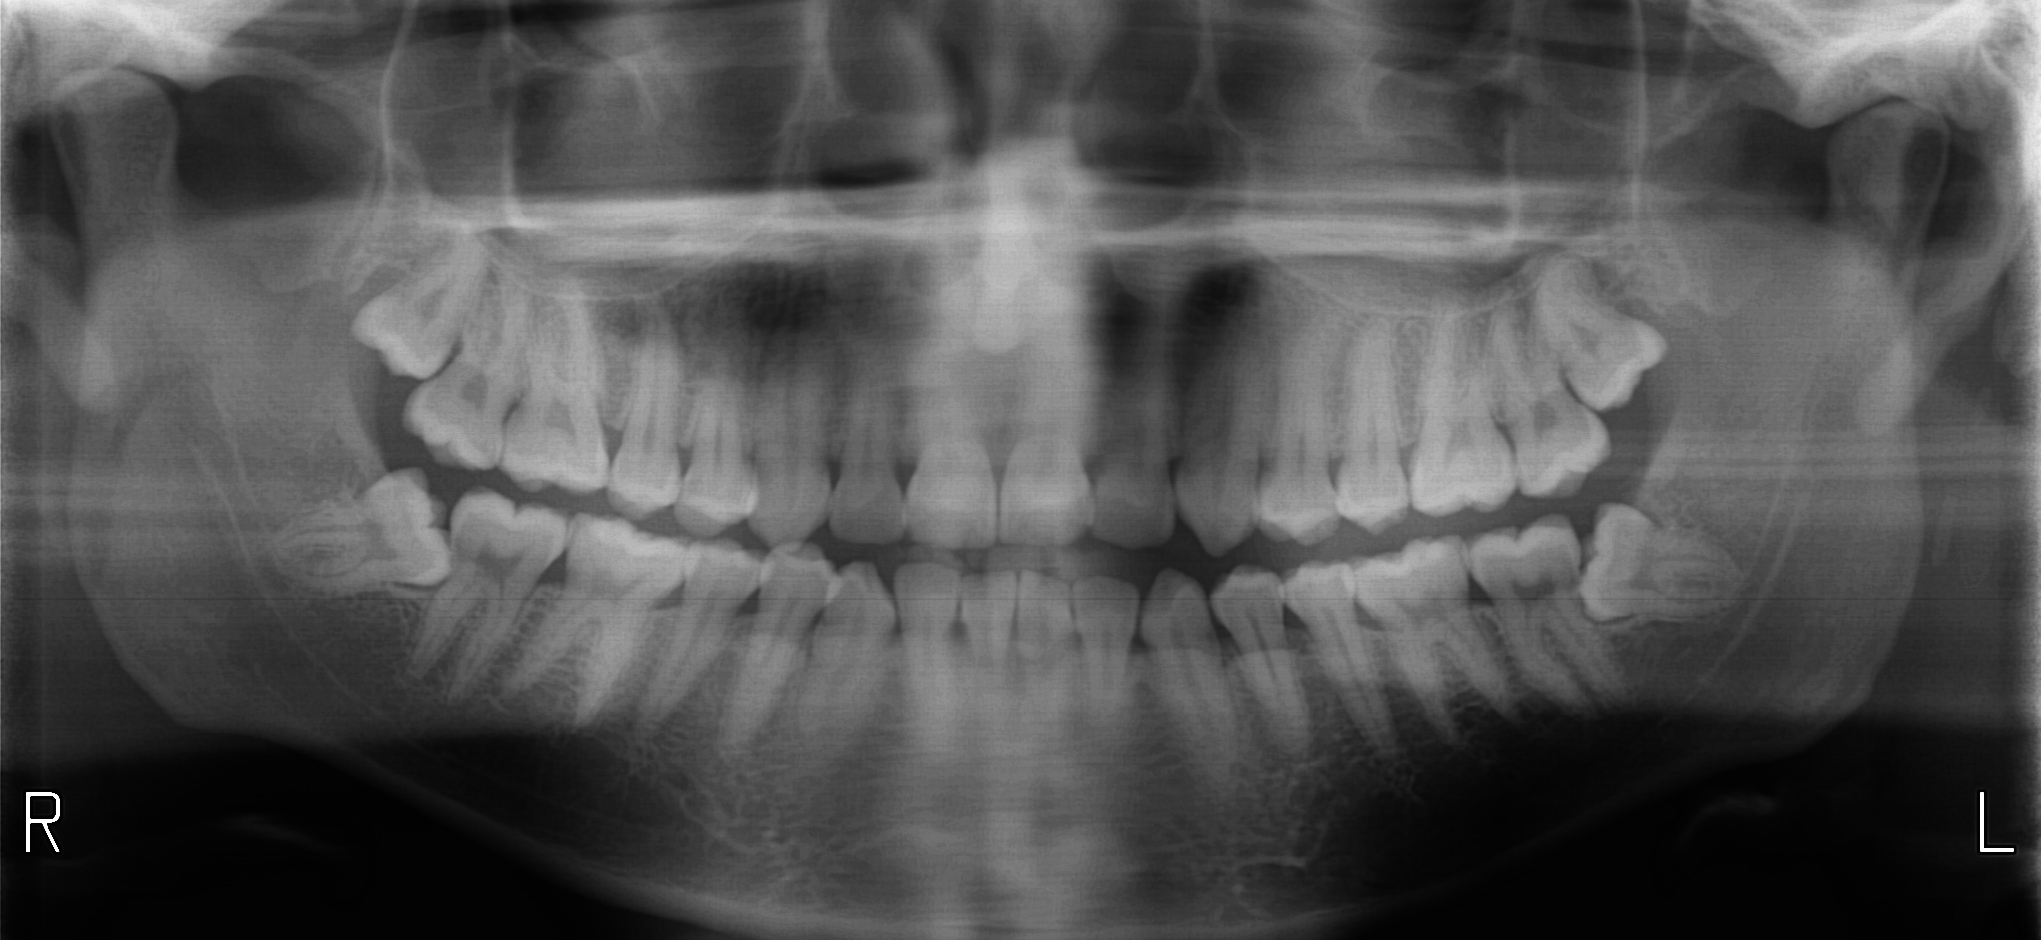cavity: (1574, 568, 1580, 588)
